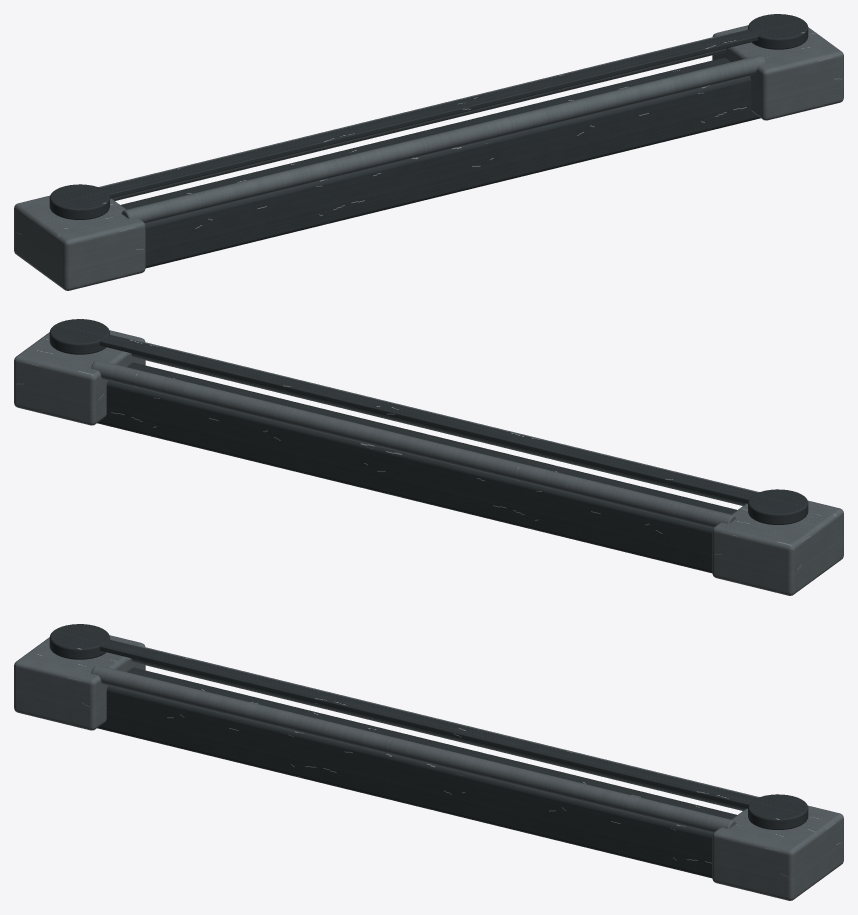
The model's file is fabricator_carriage.glb.
The picture shows the model from 3 angles, top to bottom: view 1: azimuth 30°, elevation 25°; view 2: azimuth 150°, elevation 25°; view 3: azimuth 330°, elevation 25°; orthographic projection.
Parts seen in each view (by area): view 1: Cross beam, Cross guide shaft.001, Toothed drive belt, Linear bearing block, Linear bearing block.001, Cross guide shaft, Drive pulley, Drive pulley.001; view 2: Cross beam, Cross guide shaft, Toothed drive belt, Linear bearing block, Linear bearing block.001, Cross guide shaft.001, Drive pulley, Drive pulley.001; view 3: Cross beam, Cross guide shaft.001, Toothed drive belt, Linear bearing block.001, Linear bearing block, Cross guide shaft, Drive pulley.001, Drive pulley.
Part boxes in pixels (left/top/right/bottom): Cross beam: left=121, top=57, right=760, bottom=268; Cross guide shaft.001: left=121, top=55, right=766, bottom=223; Toothed drive belt: left=100, top=29, right=758, bottom=198; Linear bearing block: left=14, top=195, right=145, bottom=290; Linear bearing block.001: left=712, top=25, right=843, bottom=120; Cross guide shaft: left=98, top=33, right=731, bottom=200; Drive pulley: left=49, top=184, right=109, bottom=219; Drive pulley.001: left=748, top=14, right=808, bottom=49; Cross beam: left=97, top=362, right=736, bottom=573; Cross guide shaft: left=91, top=360, right=736, bottom=528; Toothed drive belt: left=99, top=334, right=757, bottom=503; Linear bearing block: left=712, top=500, right=843, bottom=595; Linear bearing block.001: left=14, top=330, right=145, bottom=425; Cross guide shaft.001: left=126, top=338, right=759, bottom=505; Drive pulley: left=748, top=489, right=808, bottom=524; Drive pulley.001: left=49, top=319, right=109, bottom=354; Cross beam: left=97, top=667, right=736, bottom=878; Cross guide shaft.001: left=91, top=665, right=736, bottom=833; Toothed drive belt: left=99, top=639, right=757, bottom=808; Linear bearing block.001: left=712, top=805, right=843, bottom=900; Linear bearing block: left=14, top=635, right=145, bottom=730; Cross guide shaft: left=126, top=643, right=759, bottom=810; Drive pulley.001: left=748, top=794, right=808, bottom=829; Drive pulley: left=49, top=624, right=109, bottom=659.
Bounding box in the file's own units: 1.43 × 0.133 × 0.17.
2 materials, 2 textured.
